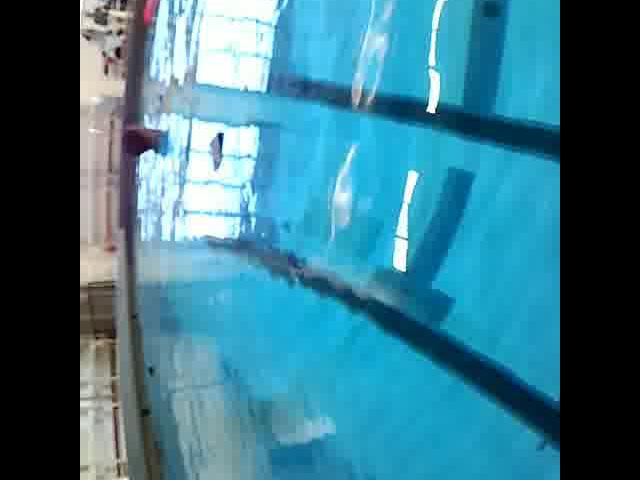Bottle: (201, 128, 233, 172)
